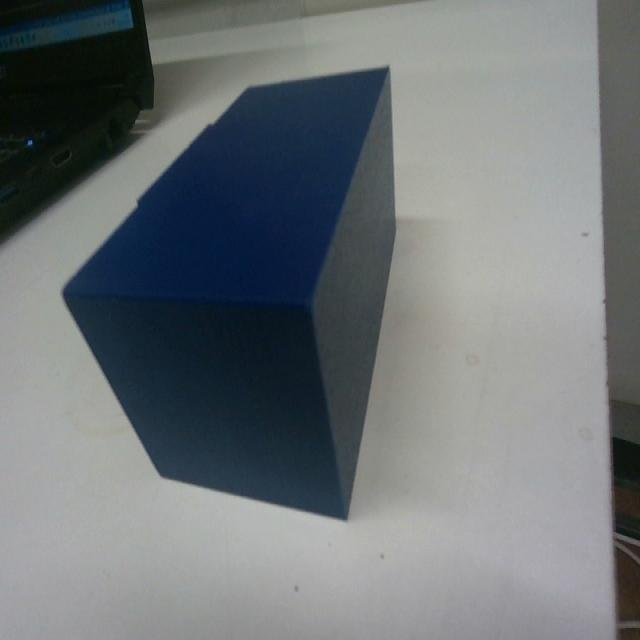Blue Cuboid: (61, 61, 398, 522)
